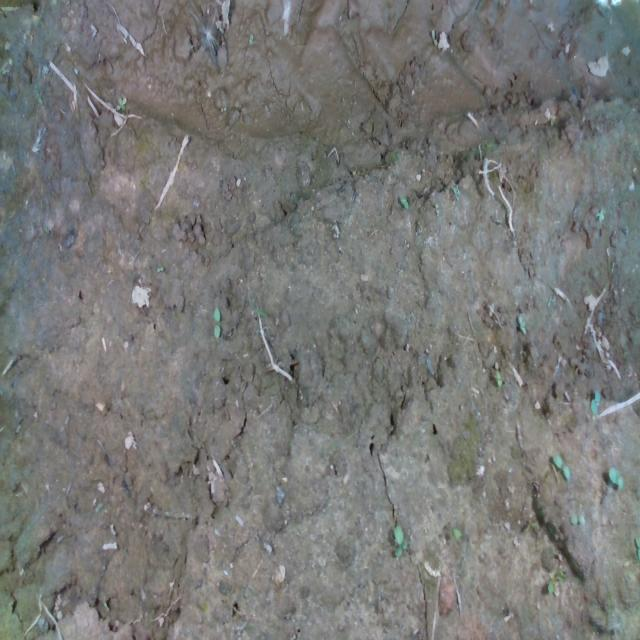weed: (552, 451, 572, 489), (391, 521, 409, 560), (608, 462, 624, 491), (210, 303, 222, 338), (589, 388, 601, 419), (568, 512, 586, 530), (397, 193, 411, 210), (156, 262, 164, 271)
